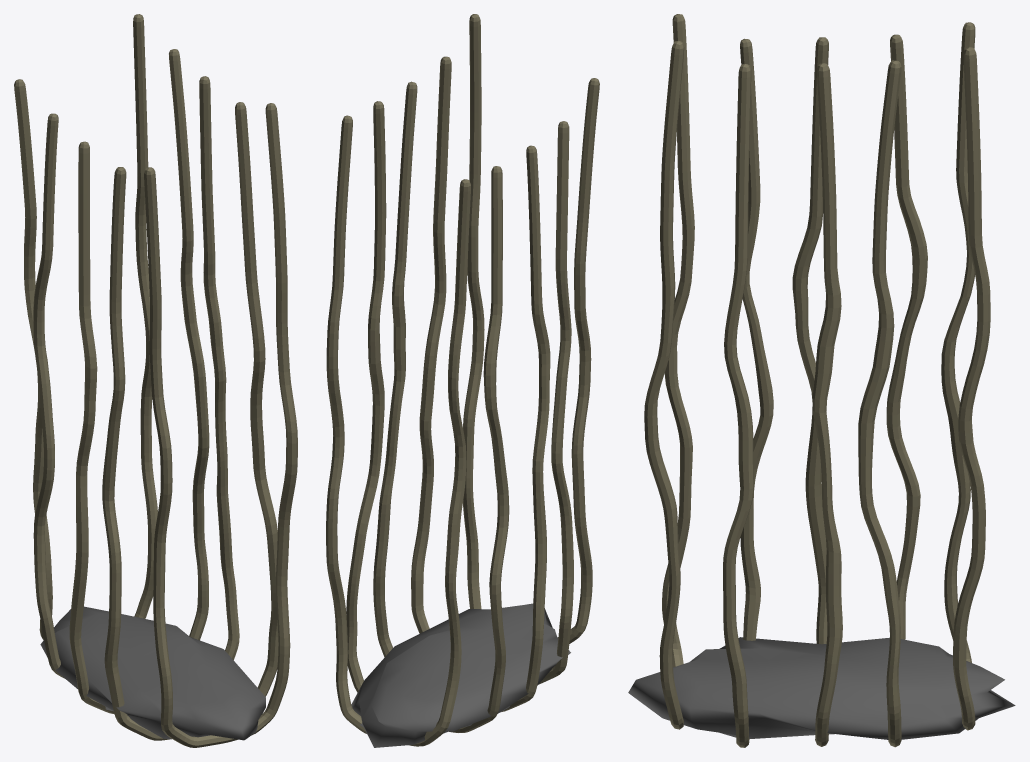
File: floting_stone_1.fbx
3 renders of one model, left to right at view 1: azimuth 30°, elevation 25°; view 2: azimuth 150°, elevation 25°; view 3: azimuth 270°, elevation 25°, orthographic. The views are drawn at different scales.
Visible parts, largest first — view 1: Cube.003; view 2: Cube.003; view 3: Cube.003.
Part boxes in pixels (box(x1,y1,x2,y2)): Cube.003: box(14, 14, 297, 747); Cube.003: box(326, 14, 599, 747); Cube.003: box(628, 14, 1015, 747).
Size of the model in its own units: 71.34 by 255 by 125.
